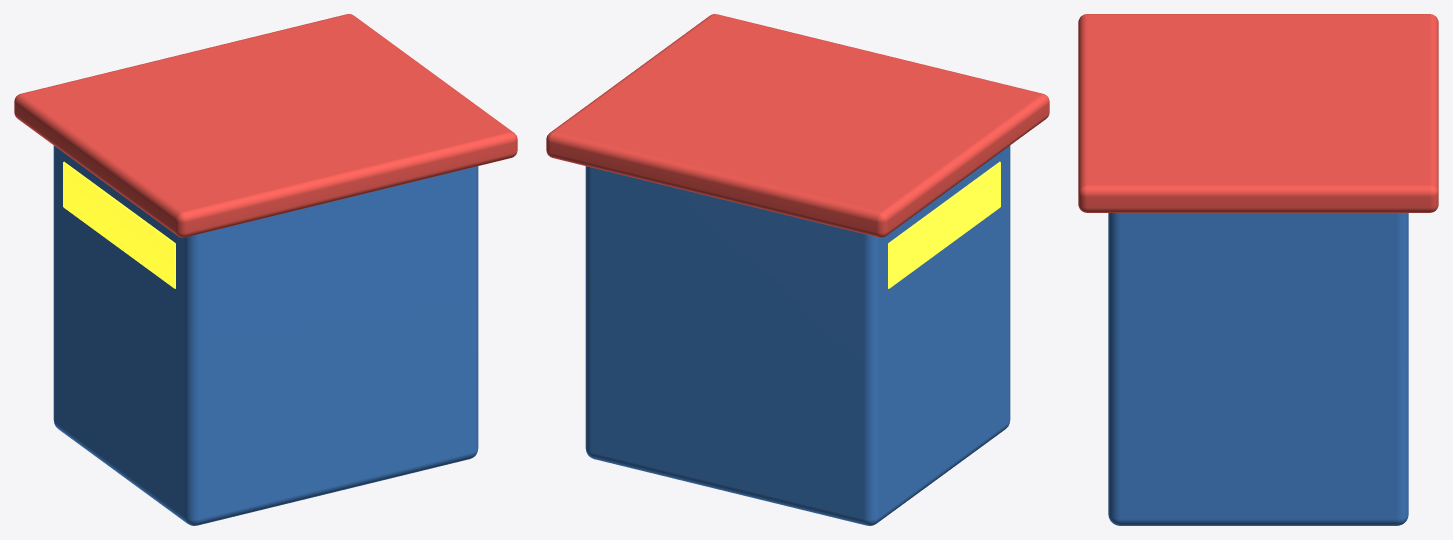
Rendered from beach_boardwalk__arcade_shack.glb.
The picture shows the model from 3 angles, left to right: view 1: azimuth 30°, elevation 25°; view 2: azimuth 150°, elevation 25°; view 3: azimuth 270°, elevation 25°; orthographic projection. The views are drawn at different scales.
Parts seen in each view (by area): view 1: Set, Glow; view 2: Set, Glow; view 3: Set.
Part boxes in pixels (x1,y1,x2,y2): Set: (14, 14, 517, 525); Glow: (63, 161, 175, 288); Set: (546, 14, 1049, 525); Glow: (888, 161, 1000, 288); Set: (1078, 14, 1438, 525).
Size of the model in its own units: 2.8 by 2.6 by 2.4.
